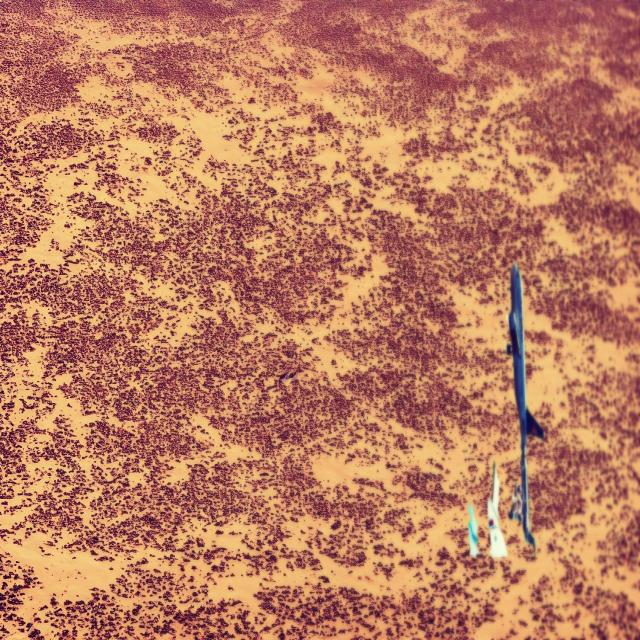airplane: (506, 262, 544, 558), (485, 460, 508, 557)
